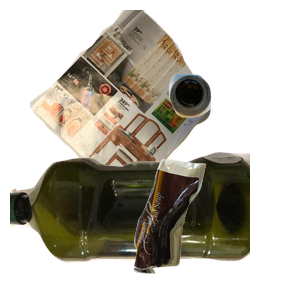glass: (166, 71, 300, 181)
paper: (27, 10, 230, 190)
plastic: (10, 149, 250, 300)
trash: (131, 157, 300, 300)
